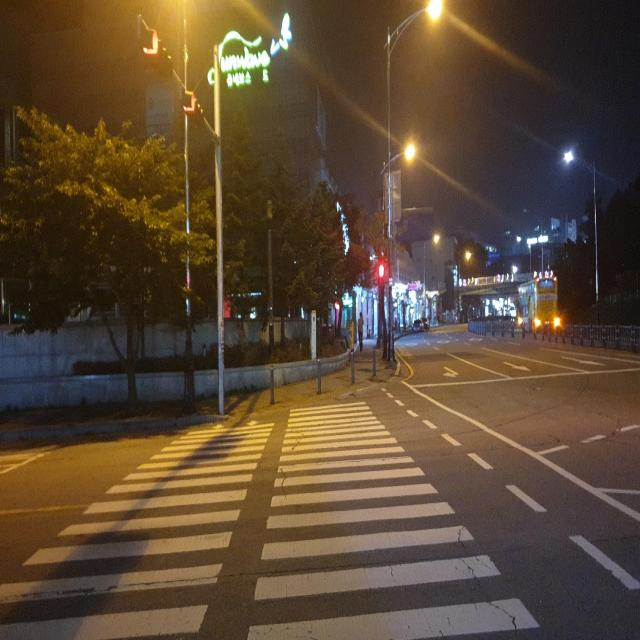빨간불: (379, 260, 386, 289)
횡단보도: (0, 391, 544, 639)
